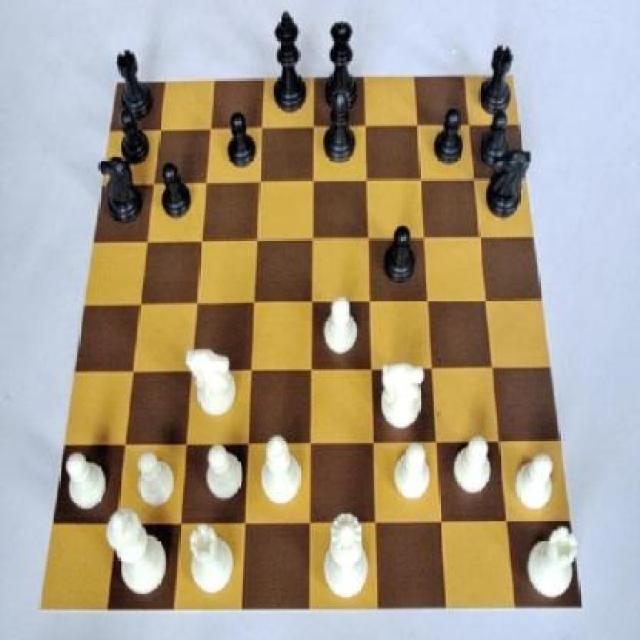bishop: (317, 88, 364, 167)
black-bishop: (268, 8, 310, 118)
black-king: (94, 147, 142, 226), (483, 146, 531, 222)
black-knight: (112, 106, 157, 172), (382, 218, 422, 291), (220, 114, 262, 175), (429, 108, 470, 168), (157, 166, 193, 223)
black-pawn: (321, 15, 364, 116)
black-queen: (116, 49, 160, 122), (476, 43, 514, 122)
black-rook: (255, 434, 304, 514)
white-bishop: (106, 506, 172, 599)
white-king: (186, 344, 247, 430), (372, 352, 428, 430)
white-knight: (508, 448, 559, 516), (200, 443, 246, 512), (130, 451, 178, 515), (390, 442, 434, 509), (323, 294, 365, 363), (451, 437, 495, 500), (65, 451, 112, 509)
white-pawn: (317, 512, 372, 602)
white-queen: (525, 523, 580, 602), (188, 520, 238, 598)
